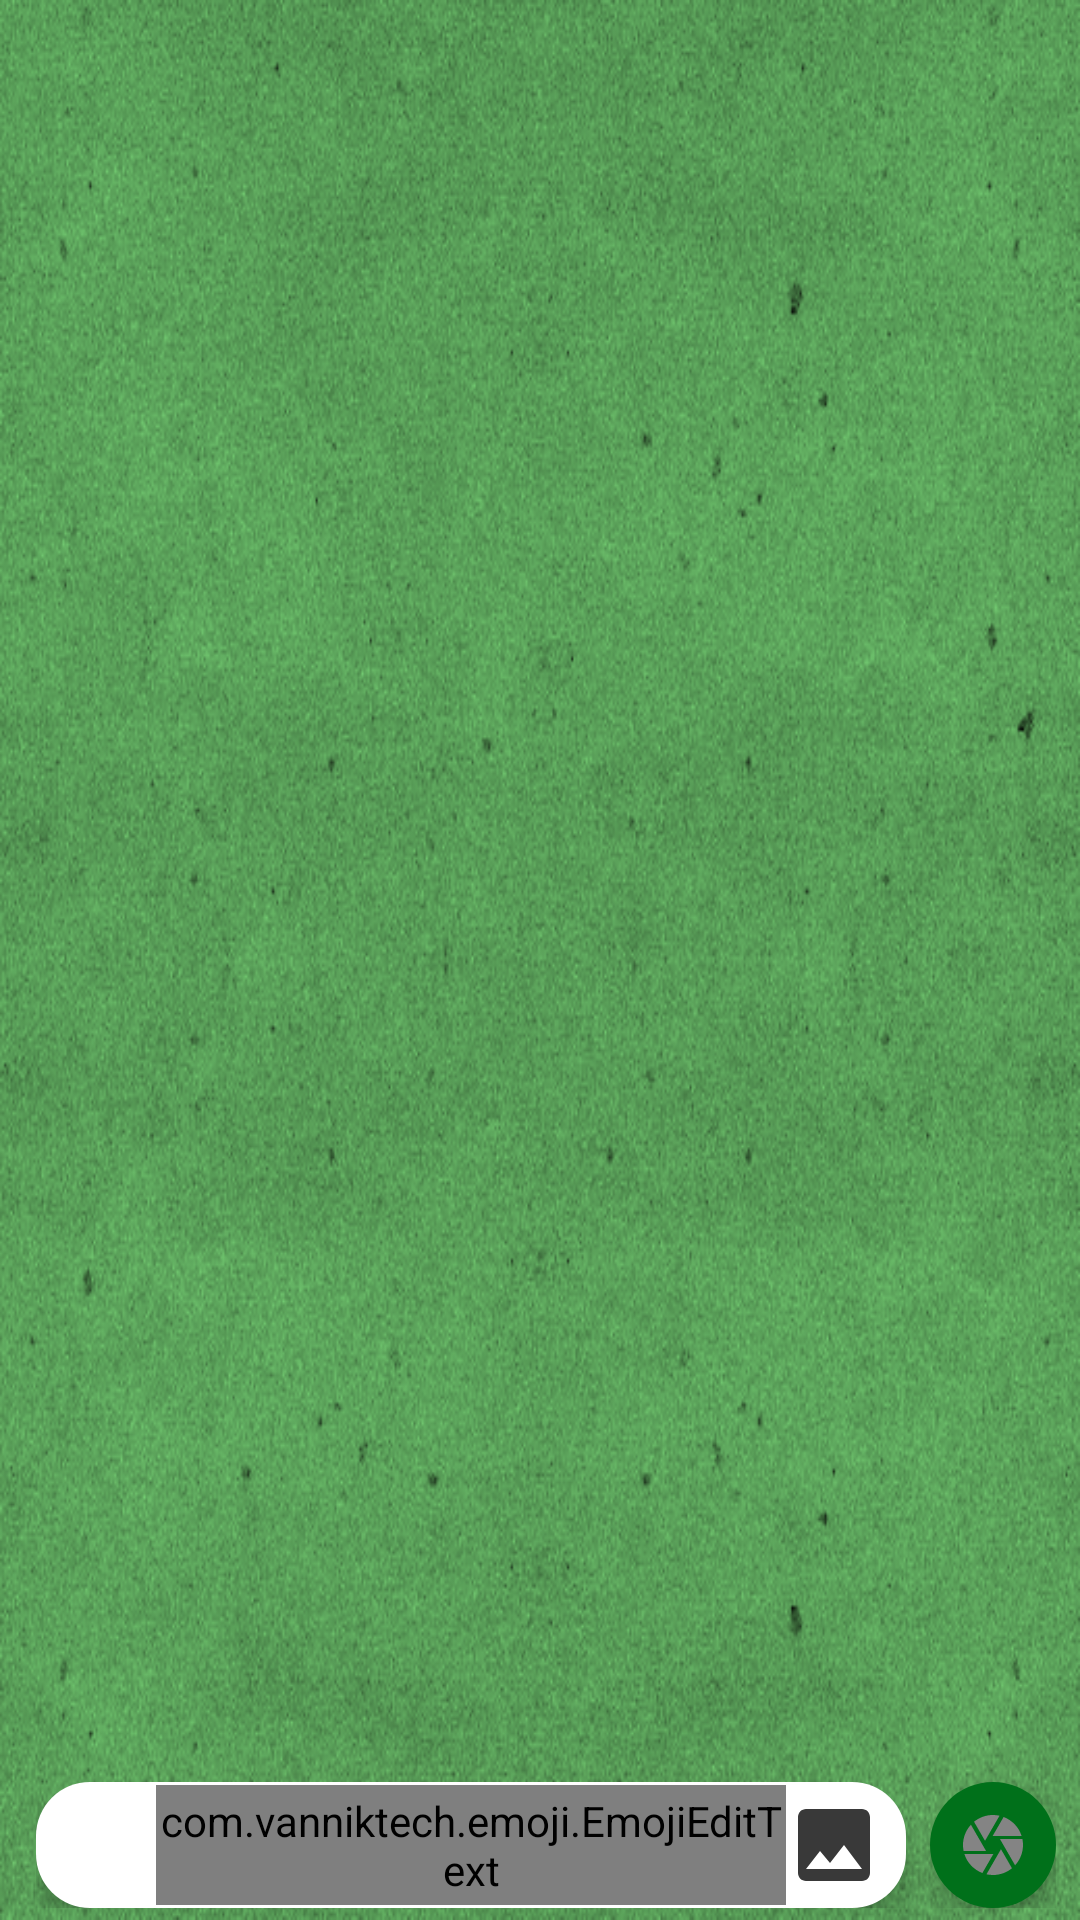

Locate icon controls on the screen. Image size 1080×1920, boxes as (x1, y1, x2, y2).
Pick an image from local storage: (798, 1809, 870, 1881)
